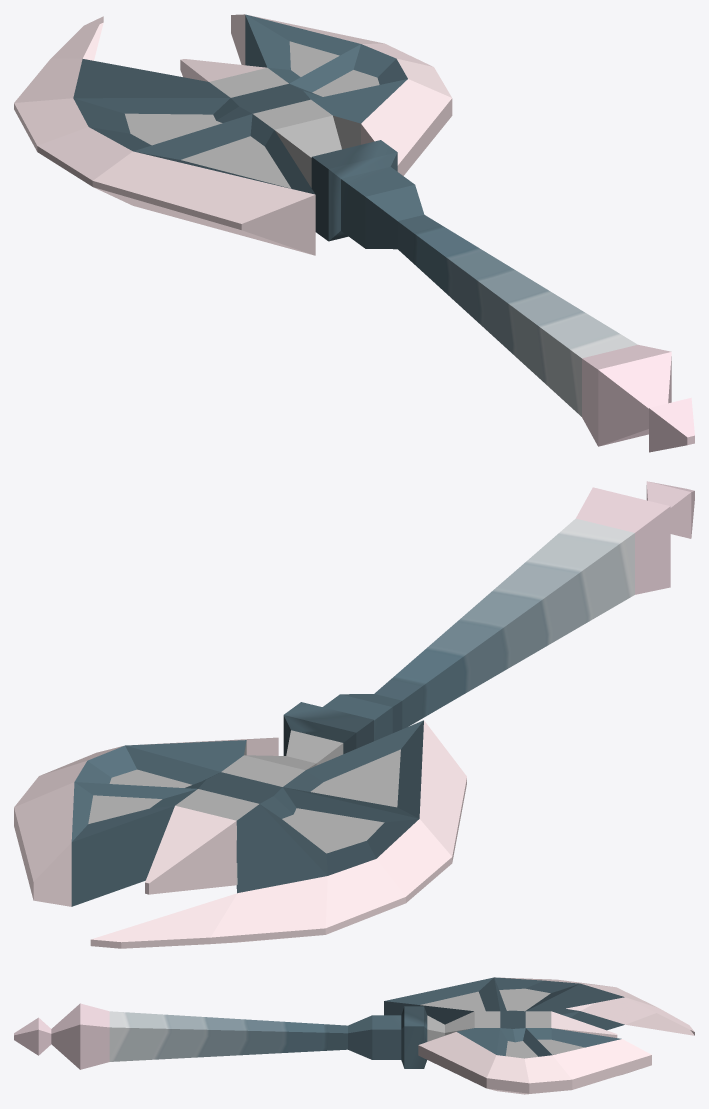
File: 25-Axe.fbx
3 renders of one model, top to bottom at view 1: azimuth 30°, elevation 25°; view 2: azimuth 150°, elevation 25°; view 3: azimuth 270°, elevation 25°, orthographic. The views are drawn at different scales.
Visible parts, largest first — view 1: Weapon25; view 2: Weapon25; view 3: Weapon25.
Boxes of the visible parts, x1,y1,x2,y2 form: Weapon25: (14, 14, 694, 452); Weapon25: (14, 481, 694, 948); Weapon25: (14, 977, 694, 1094).
Bounding box in the file's own units: 82.62 × 16.34 × 222.
